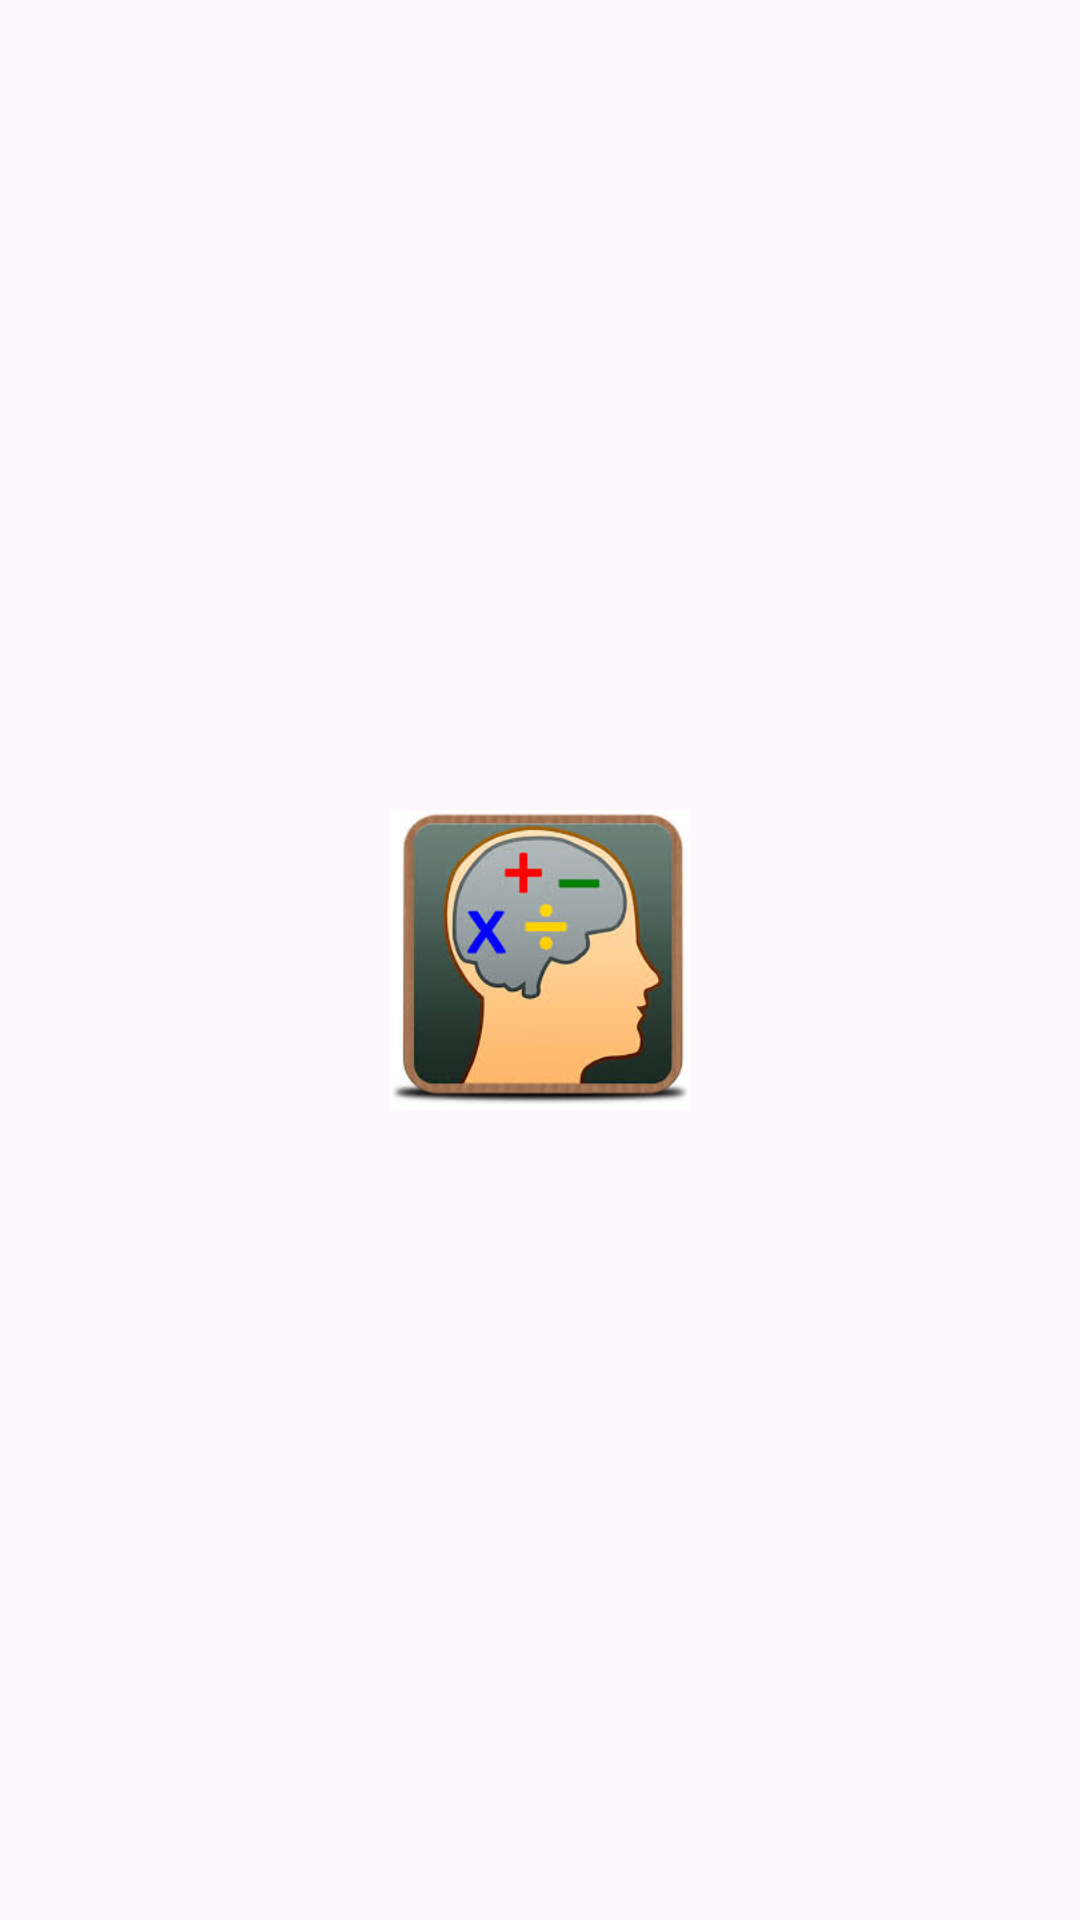

Icon click points for this 1080px×1920px phone screenshot, format (x,y):
calculo mental: (540,958)
